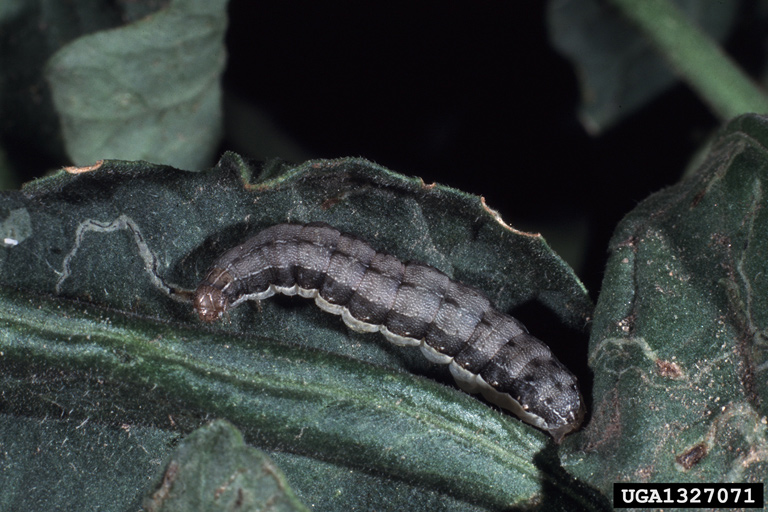Armyworm: (172, 214, 588, 442)
